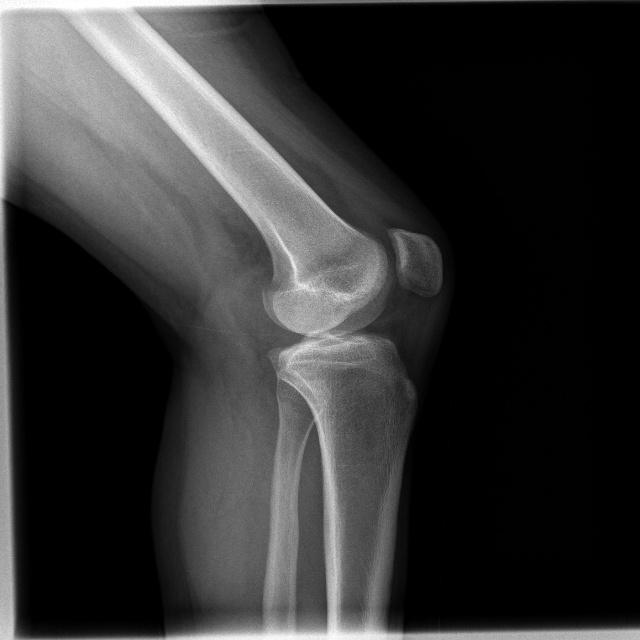Knee: (261, 223, 442, 418)
